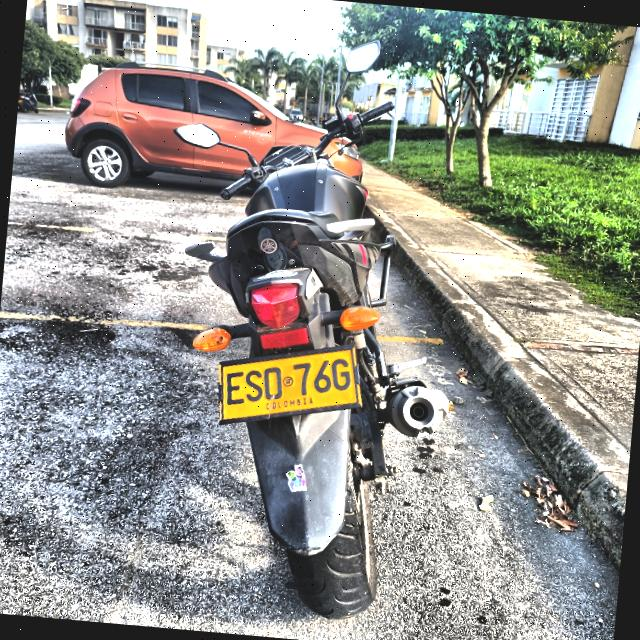6: (312, 359, 333, 394)
7: (292, 361, 313, 397)
E: (225, 370, 246, 405)
G: (329, 356, 353, 392)
O: (262, 365, 283, 400)
S: (244, 368, 264, 403)
